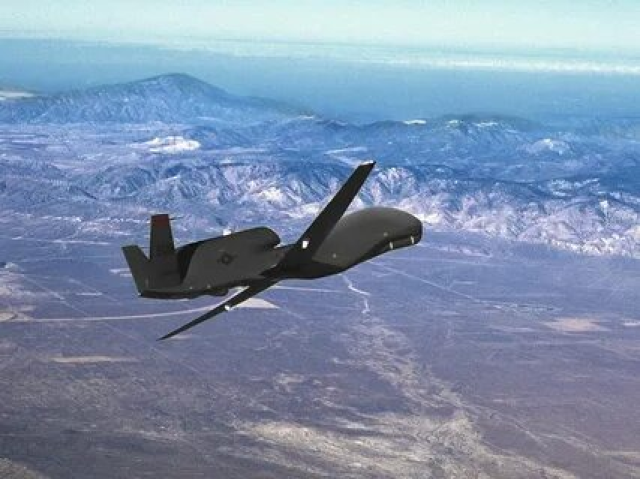military drone: (120, 160, 423, 340)
